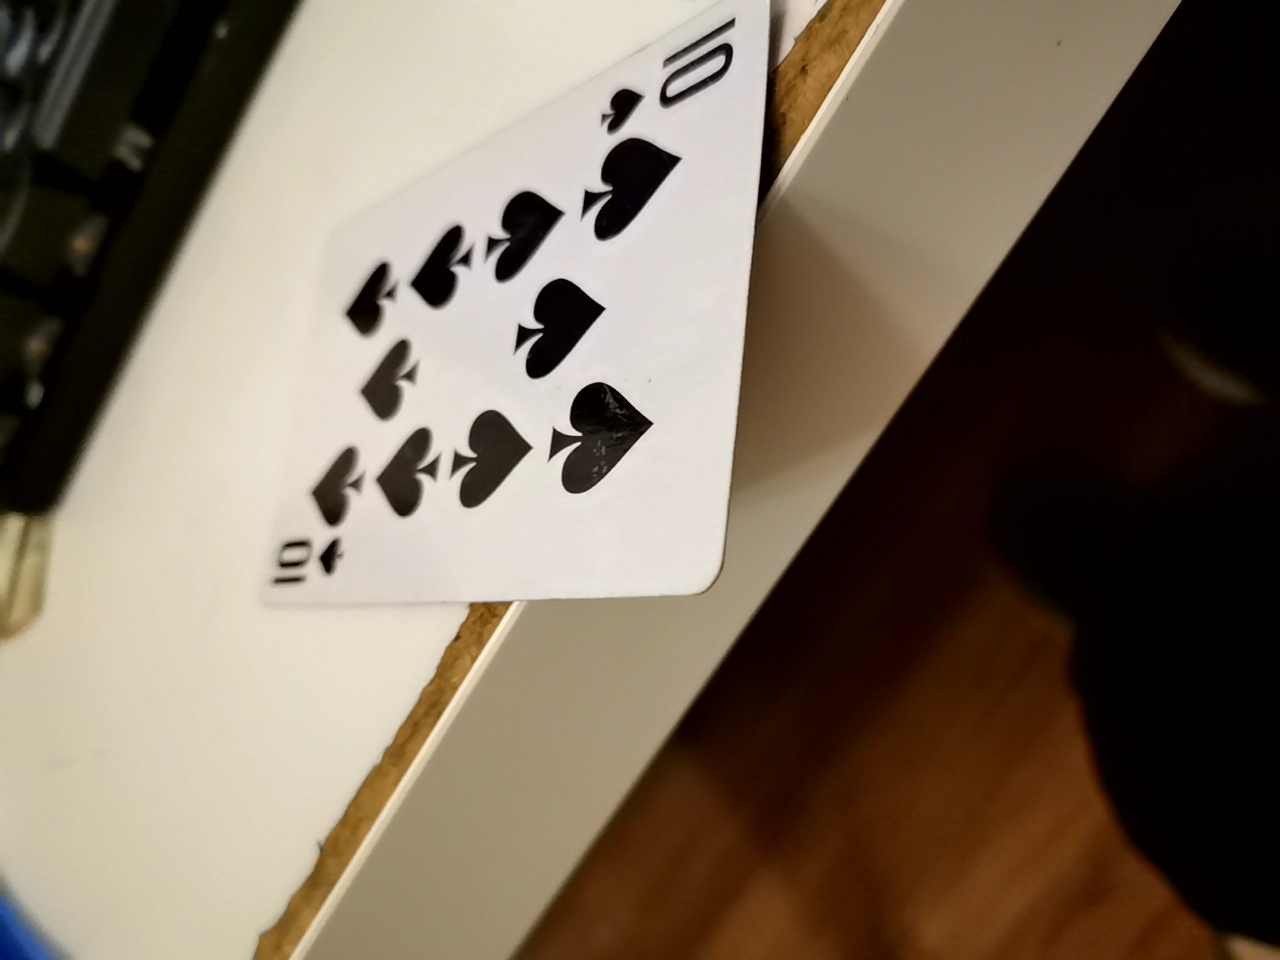ht 10: (279, 31, 755, 621)
